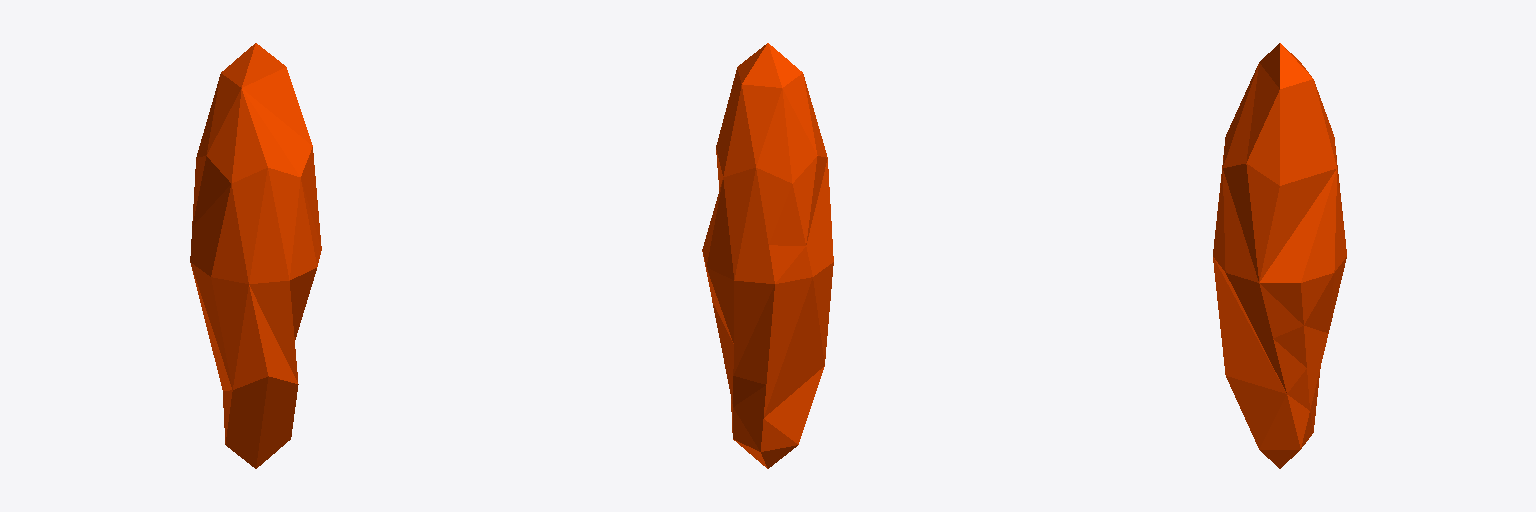
Rendered from smelter.obj.
3 renders of one model, left to right at view 1: azimuth 30°, elevation 25°; view 2: azimuth 150°, elevation 25°; view 3: azimuth 270°, elevation 25°, orthographic.
Visible parts, largest first — view 1: Icosphere; view 2: Icosphere; view 3: Icosphere.
Part boxes in pixels (bbox=[...]): Icosphere: bbox=[190, 43, 321, 468]; Icosphere: bbox=[702, 43, 833, 468]; Icosphere: bbox=[1213, 43, 1346, 468].
Size of the model in its own units: 0.1902 by 0.7 by 0.2.